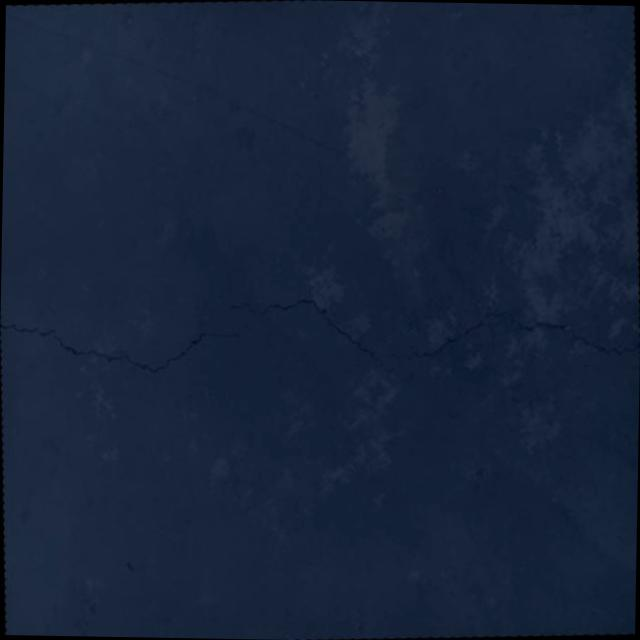crack: (211, 287, 433, 388), (0, 314, 258, 379), (379, 304, 640, 365)
